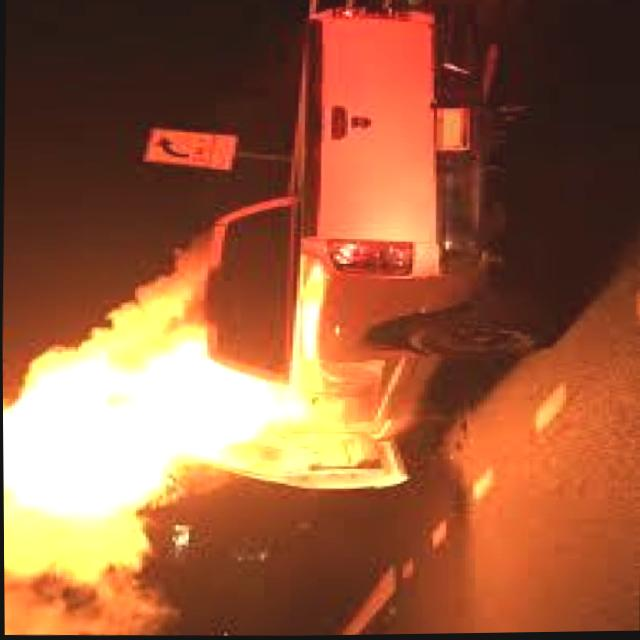helmet: (1, 224, 325, 640)
